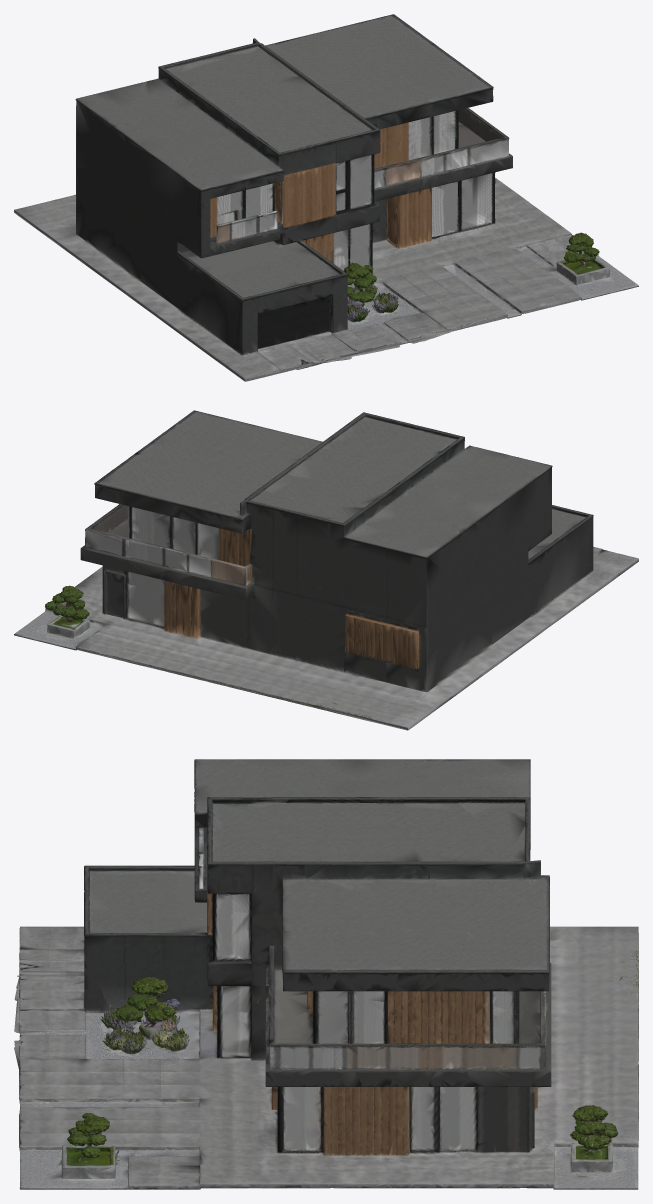
Rendered from biet-thu-hien-dai.glb.
3 views of the same model, one above another, from view 1: azimuth 30°, elevation 25°; view 2: azimuth 150°, elevation 25°; view 3: azimuth 270°, elevation 25° (orthographic). The views are drawn at different scales.
Visible parts, largest first — view 1: mesh_node; view 2: mesh_node; view 3: mesh_node.
Boxes of the visible parts, left/top/right/bottom form: mesh_node: left=14, top=14, right=638, bottom=381; mesh_node: left=14, top=410, right=638, bottom=730; mesh_node: left=14, top=759, right=638, bottom=1189.
Bounding box in the file's own units: 30 × 11.1 × 30.75.
1 material, 1 textured.
